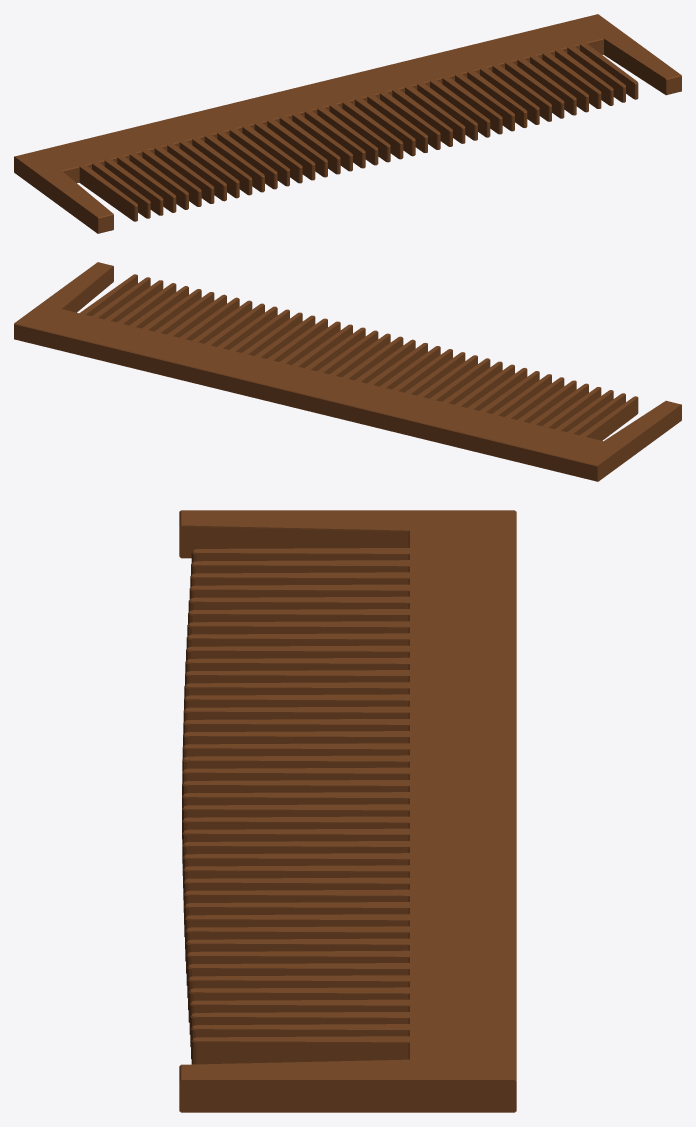
3 views of the same model, one above another, from view 1: azimuth 30°, elevation 25°; view 2: azimuth 150°, elevation 25°; view 3: azimuth 270°, elevation 25° (orthographic). The views are drawn at different scales.
Visible parts, largest first — view 1: NEW304_Comb_LOD1; view 2: NEW304_Comb_LOD1; view 3: NEW304_Comb_LOD1.
Part boxes in pixels (<box>): NEW304_Comb_LOD1: <box>14,14,681,233</box>; NEW304_Comb_LOD1: <box>14,262,681,481</box>; NEW304_Comb_LOD1: <box>179,510,516,1112</box>.
Size of the model in its own units: 0.112 by 0.003 by 0.028.
